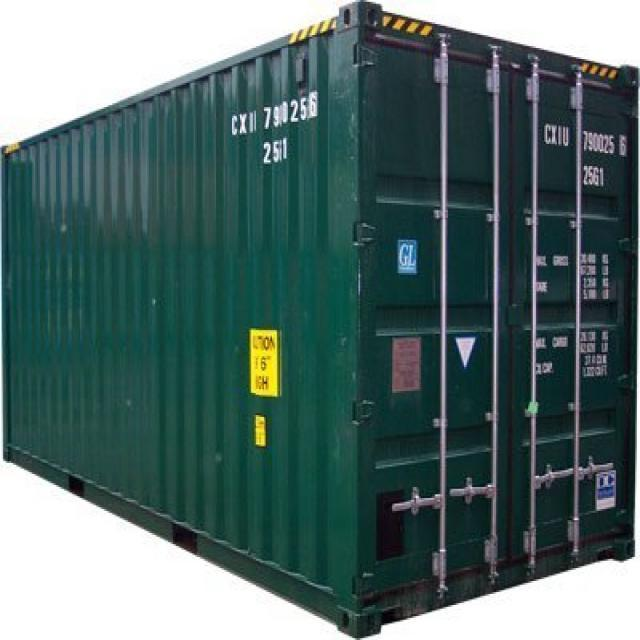ISO: (582, 162, 609, 192)
container_number: (542, 124, 635, 156)
